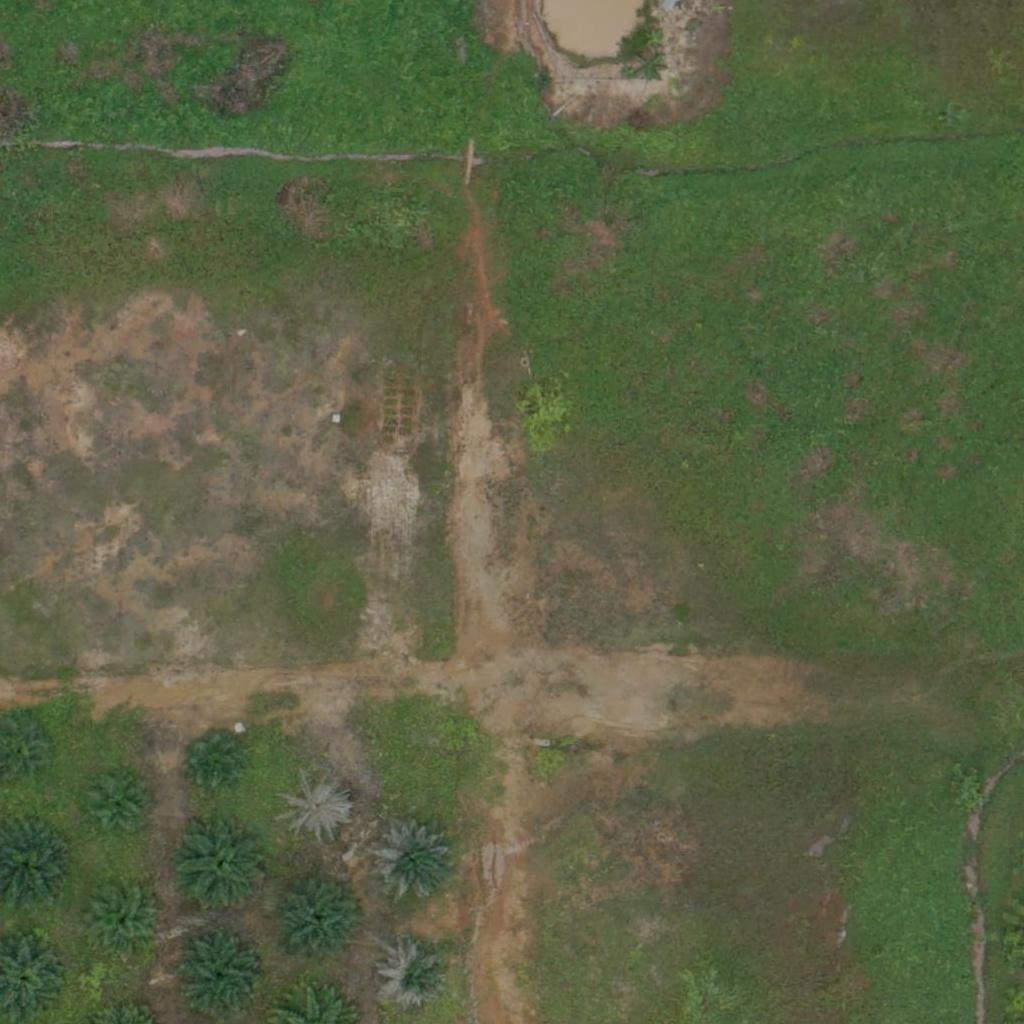Kelapa_Sawit: (172, 816, 272, 916), (271, 870, 371, 970), (367, 818, 455, 906), (177, 933, 264, 1021), (278, 769, 353, 845), (379, 939, 454, 1015), (84, 888, 159, 963), (86, 768, 149, 831), (182, 729, 244, 791)
